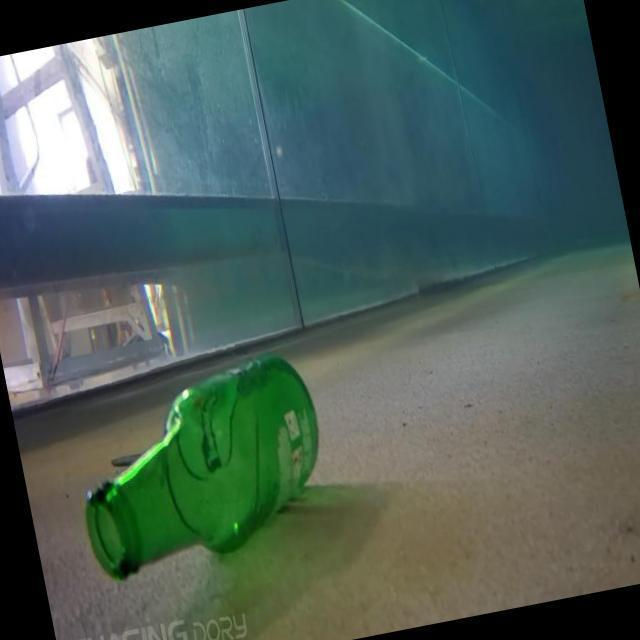Glass: (86, 354, 320, 579)
